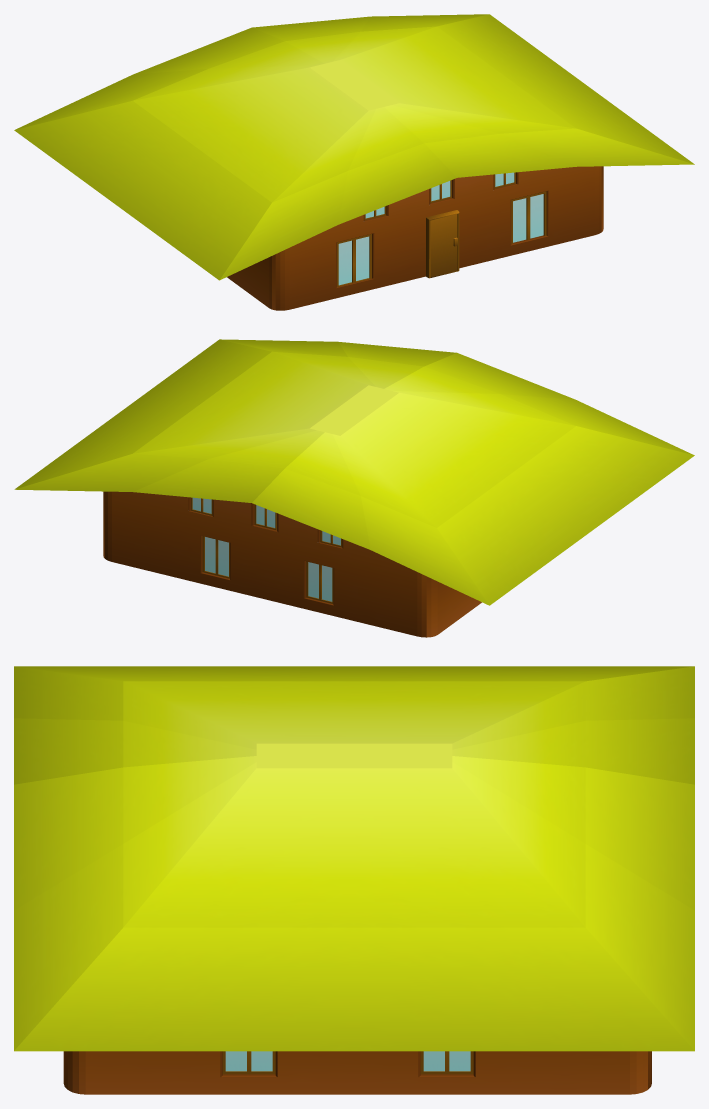
The model's file is Elf_House_3.fbx.
The picture shows the model from 3 angles, top to bottom: view 1: azimuth 30°, elevation 25°; view 2: azimuth 150°, elevation 25°; view 3: azimuth 270°, elevation 25°; orthographic projection. The views are drawn at different scales.
Parts seen in each view (by area): view 1: Cube.007, Cube.006, Cube.004, puerta.001; view 2: Cube.007, Cube.006, Cube.004; view 3: Cube.007, Cube.006, Cube.004.
Part boxes in pixels (box(x1,y1,x2,y2)): Cube.007: box(14, 14, 694, 280); Cube.006: box(227, 166, 603, 310); Cube.004: box(337, 172, 546, 286); puerta.001: box(426, 210, 459, 278); Cube.007: box(14, 339, 694, 605); Cube.006: box(103, 491, 481, 637); Cube.004: box(191, 497, 342, 603); Cube.007: box(14, 666, 694, 1051); Cube.006: box(63, 1051, 651, 1094); Cube.004: box(222, 1051, 473, 1074).
Bounding box in the file's own units: 18.57 × 4.59 × 13.89.
